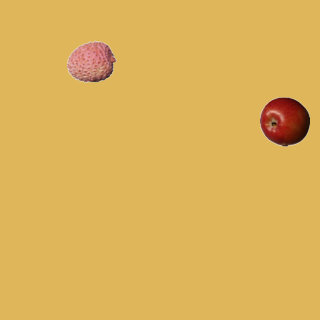Apple Braeburn: (259, 96, 309, 146)
Lychee: (66, 36, 116, 86)
